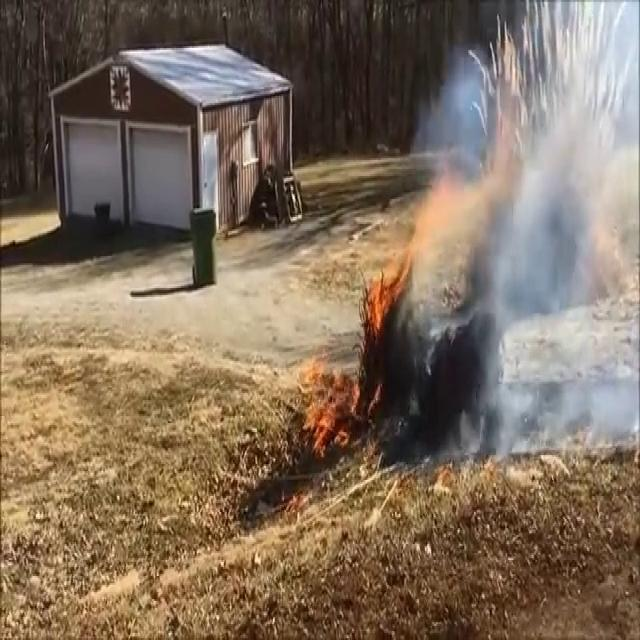Fire: (365, 213, 425, 349), (286, 343, 348, 456)
Smoke: (392, 24, 640, 465)
